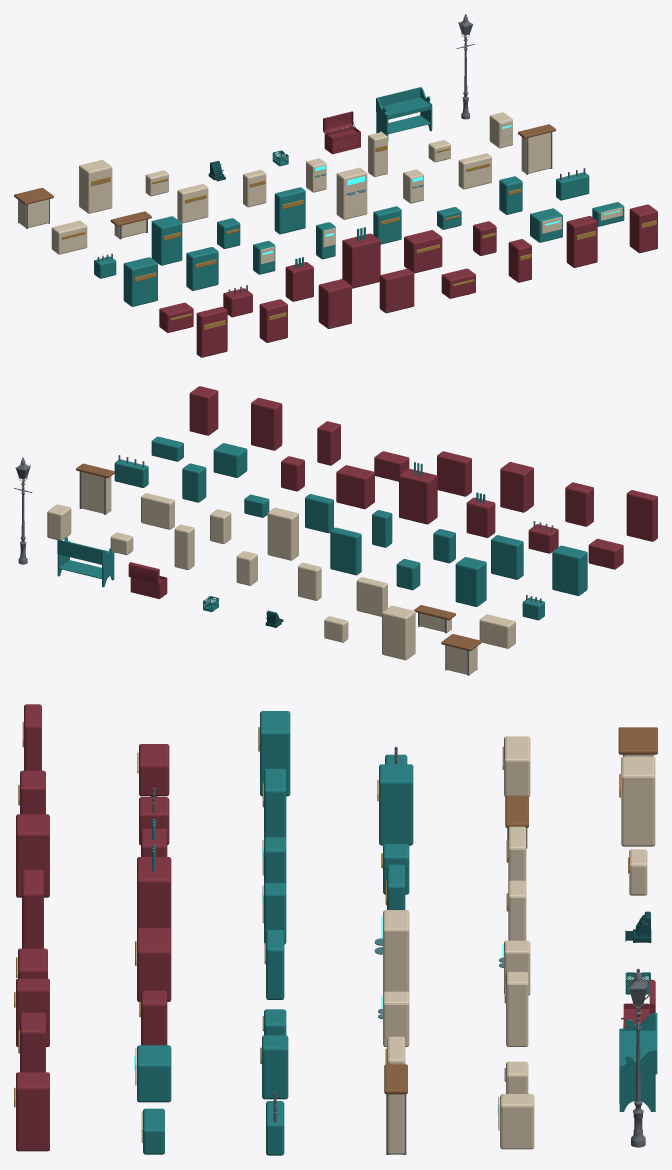
The model's file is infinite_backlot_asset_library_v3.glb.
3 renders of one model, top to bottom at view 1: azimuth 30°, elevation 25°; view 2: azimuth 150°, elevation 25°; view 3: azimuth 270°, elevation 25°, orthographic. The views are drawn at different scales.
Visible parts, largest first — view 1: painted_wooden_bench, ARCH_DRAINPIPE_BODY, INT_TOOL_WALL_BODY, ARCH_EXTERIOR_STAIRS_BODY, STREET_PARKING_METER_BODY, ARCH_SERVICE_DOOR_BODY, INT_WASHER_BODY, ARCH_FIRE_ESCAPE_BODY, ARCH_CANOPY_BODY, ARCH_CORNER_WINDOW_BODY, STREET_DELIVERY_CART_BODY, STREET_WORK_ZONE_BODY (+29 smaller); view 2: ARCH_DRAINPIPE_BODY, painted_wooden_bench, INT_TOOL_WALL_BODY, STREET_PARKING_METER_BODY, ARCH_EXTERIOR_STAIRS_BODY, INT_WASHER_BODY, ARCH_SERVICE_DOOR_BODY, ARCH_CORNER_WINDOW_BODY, ARCH_CANOPY_BODY, STREET_DELIVERY_CART_BODY, ARCH_FIRE_ESCAPE_BODY, STREET_WORK_ZONE_BODY (+36 smaller); view 3: INT_TOOL_WALL_BODY, painted_wooden_bench, STREET_DELIVERY_CART_BODY, ARCH_ROLLING_SHUTTER_BODY, ARCH_DRAINPIPE_BODY, ARCH_CANOPY_BODY, ARCH_EXTERIOR_STAIRS_BODY, INT_WASHER_BODY, STREET_PARKING_METER_BODY, STREET_TRANSIT_MAP_BODY, INT_BUILDING_DIRECTORY_BODY, ARCH_FIRE_ESCAPE_BODY (+31 smaller).
Part boxes in pixels (x1=…): painted_wooden_bench: x1=376, y1=87, x2=432, y2=141; ARCH_DRAINPIPE_BODY: x1=342, y1=233, x2=380, y2=288; INT_TOOL_WALL_BODY: x1=79, y1=160, x2=112, y2=213; ARCH_EXTERIOR_STAIRS_BODY: x1=318, y1=279, x2=351, y2=328; STREET_PARKING_METER_BODY: x1=123, y1=257, x2=157, y2=306; ARCH_SERVICE_DOOR_BODY: x1=566, y1=216, x2=597, y2=267; INT_WASHER_BODY: x1=336, y1=167, x2=367, y2=219; ARCH_FIRE_ESCAPE_BODY: x1=379, y1=268, x2=414, y2=313; ARCH_CANOPY_BODY: x1=404, y1=230, x2=442, y2=273; ARCH_CORNER_WINDOW_BODY: x1=196, y1=307, x2=227, y2=357; STREET_DELIVERY_CART_BODY: x1=151, y1=216, x2=182, y2=265; STREET_WORK_ZONE_BODY: x1=274, y1=187, x2=305, y2=234; ARCH_DRAINPIPE_BODY: x1=399, y1=468, x2=437, y2=524; painted_wooden_bench: x1=57, y1=537, x2=114, y2=587; INT_TOOL_WALL_BODY: x1=382, y1=605, x2=415, y2=660; STREET_PARKING_METER_BODY: x1=552, y1=545, x2=587, y2=595; ARCH_EXTERIOR_STAIRS_BODY: x1=500, y1=462, x2=533, y2=512; INT_WASHER_BODY: x1=267, y1=507, x2=298, y2=560; ARCH_SERVICE_DOOR_BODY: x1=251, y1=398, x2=282, y2=450; ARCH_CORNER_WINDOW_BODY: x1=626, y1=490, x2=657, y2=541; ARCH_CANOPY_BODY: x1=336, y1=465, x2=374, y2=509; STREET_DELIVERY_CART_BODY: x1=455, y1=557, x2=486, y2=606; ARCH_FIRE_ESCAPE_BODY: x1=437, y1=451, x2=471, y2=496; STREET_WORK_ZONE_BODY: x1=330, y1=527, x2=361, y2=575; INT_TOOL_WALL_BODY: x1=621, y1=756, x2=655, y2=846; painted_wooden_bench: x1=619, y1=1013, x2=657, y2=1111; STREET_DELIVERY_CART_BODY: x1=379, y1=764, x2=413, y2=845; ARCH_ROLLING_SHUTTER_BODY: x1=16, y1=1072, x2=49, y2=1151; ARCH_DRAINPIPE_BODY: x1=137, y1=857, x2=171, y2=929; ARCH_CANOPY_BODY: x1=137, y1=927, x2=171, y2=1001; ARCH_EXTERIOR_STAIRS_BODY: x1=16, y1=814, x2=49, y2=897; INT_WASHER_BODY: x1=383, y1=910, x2=409, y2=993; STREET_PARKING_METER_BODY: x1=260, y1=711, x2=290, y2=796; STREET_TRANSIT_MAP_BODY: x1=137, y1=1045, x2=171, y2=1102; INT_BUILDING_DIRECTORY_BODY: x1=500, y1=1094, x2=534, y2=1149; ARCH_FIRE_ESCAPE_BODY: x1=22, y1=870, x2=43, y2=948.
Size of the model in its own units: 17.99 by 3.96 by 12.77.
